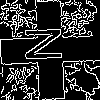N: (25, 25, 71, 63)
